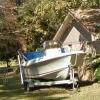Boat: (18, 43, 86, 88)
